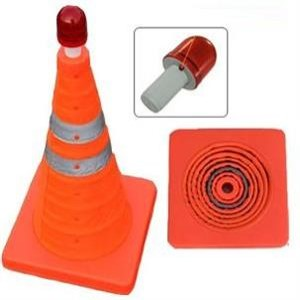traffic cone: (2, 5, 157, 295)
